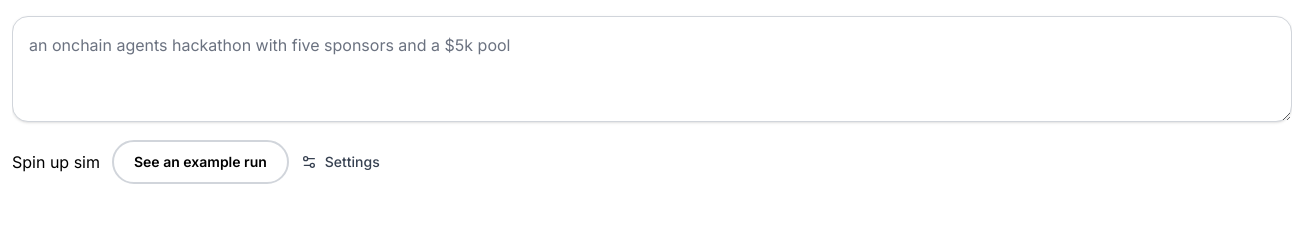
Scenario: HeroPrompt › self-managed POST (no onSubmit) › surfaces an abort as the 12-second timeout message
Replace the text in the text box named "Describe the hackathon you want" with "a tiny test sim" at (652, 69), box [12,16,1292,122]
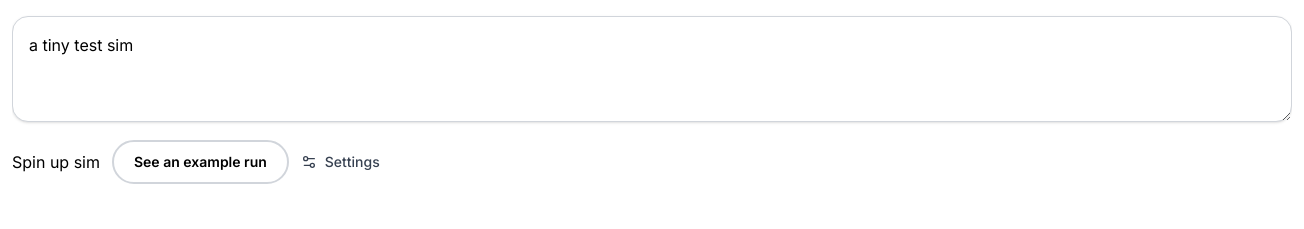
Click the button "Spin up sim" at (56, 162), box [12,150,100,174]
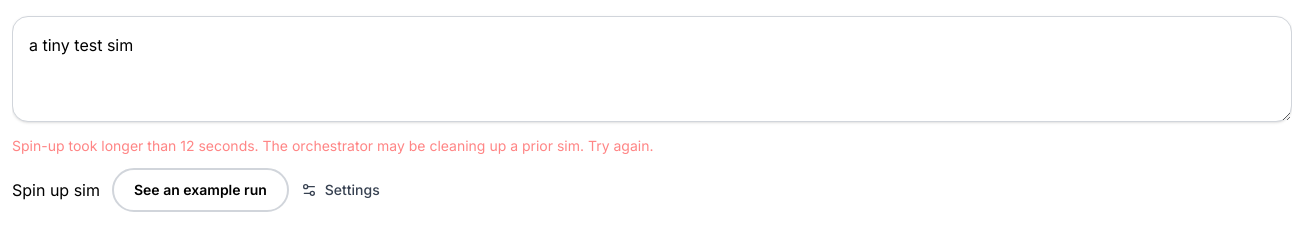
Check: the message shows "longer than 12 seconds", box [12,137,654,154]
